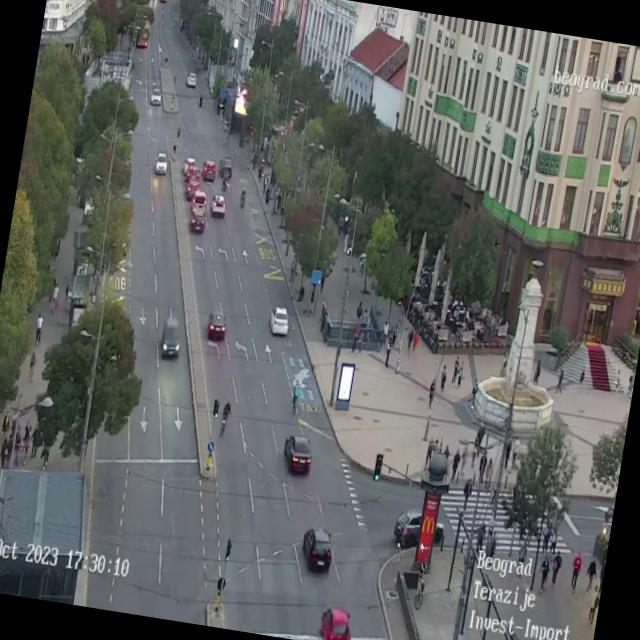bus: (134, 16, 154, 54)
car: (394, 504, 446, 549), (298, 525, 336, 573), (280, 433, 315, 476), (156, 315, 187, 359), (316, 605, 354, 640), (267, 304, 291, 336), (205, 312, 228, 342), (210, 196, 230, 219), (188, 212, 206, 234), (153, 152, 169, 176), (202, 158, 218, 182), (180, 154, 196, 177), (148, 85, 164, 108), (218, 158, 234, 180), (192, 191, 207, 213), (186, 176, 200, 198), (185, 71, 198, 88), (157, 0, 169, 4)
